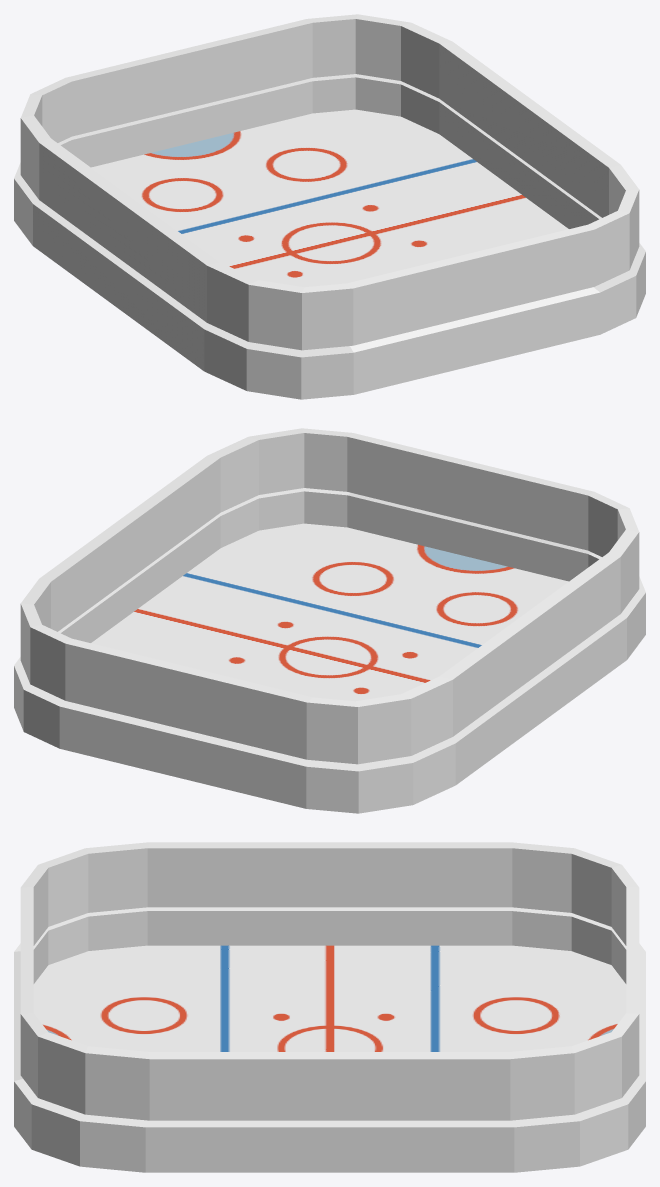
The model's file is rink.glb.
The picture shows the model from 3 angles, top to bottom: view 1: azimuth 30°, elevation 25°; view 2: azimuth 150°, elevation 25°; view 3: azimuth 270°, elevation 25°; orthographic projection. The views are drawn at different scales.
Parts seen in each view (by area): view 1: Cube; view 2: Cube; view 3: Cube.
Part boxes in pixels (x1=…): Cube: x1=14, y1=14, x2=645, y2=399; Cube: x1=14, y1=428, x2=645, y2=813; Cube: x1=14, y1=842, x2=645, y2=1172.
Bounding box in the file's own units: 20.05 × 4.72 × 24.15.
Materials: 3 (1 with a texture image).
